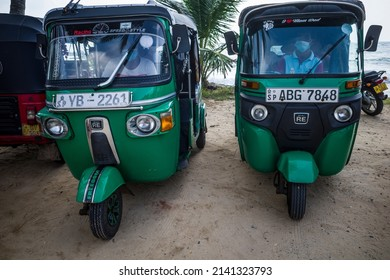motorbike: (360, 69, 388, 116)
threewheel: (36, 2, 207, 240), (224, 1, 382, 222), (1, 13, 65, 165)
